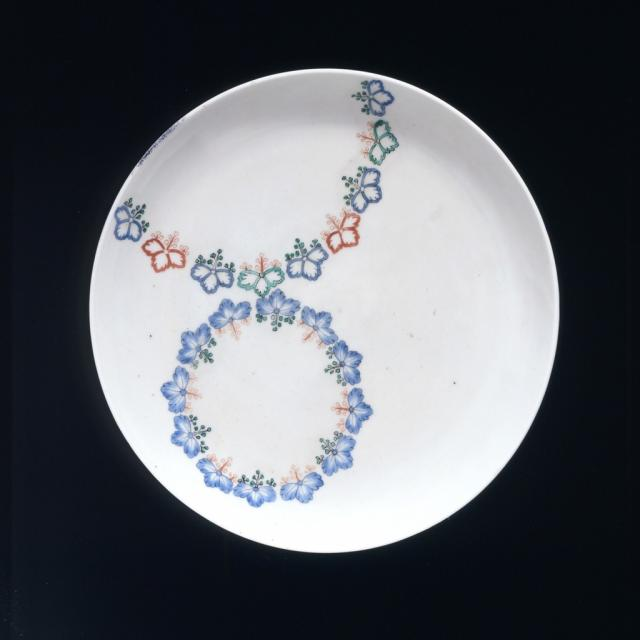non-organic waste: (80, 71, 561, 568)
